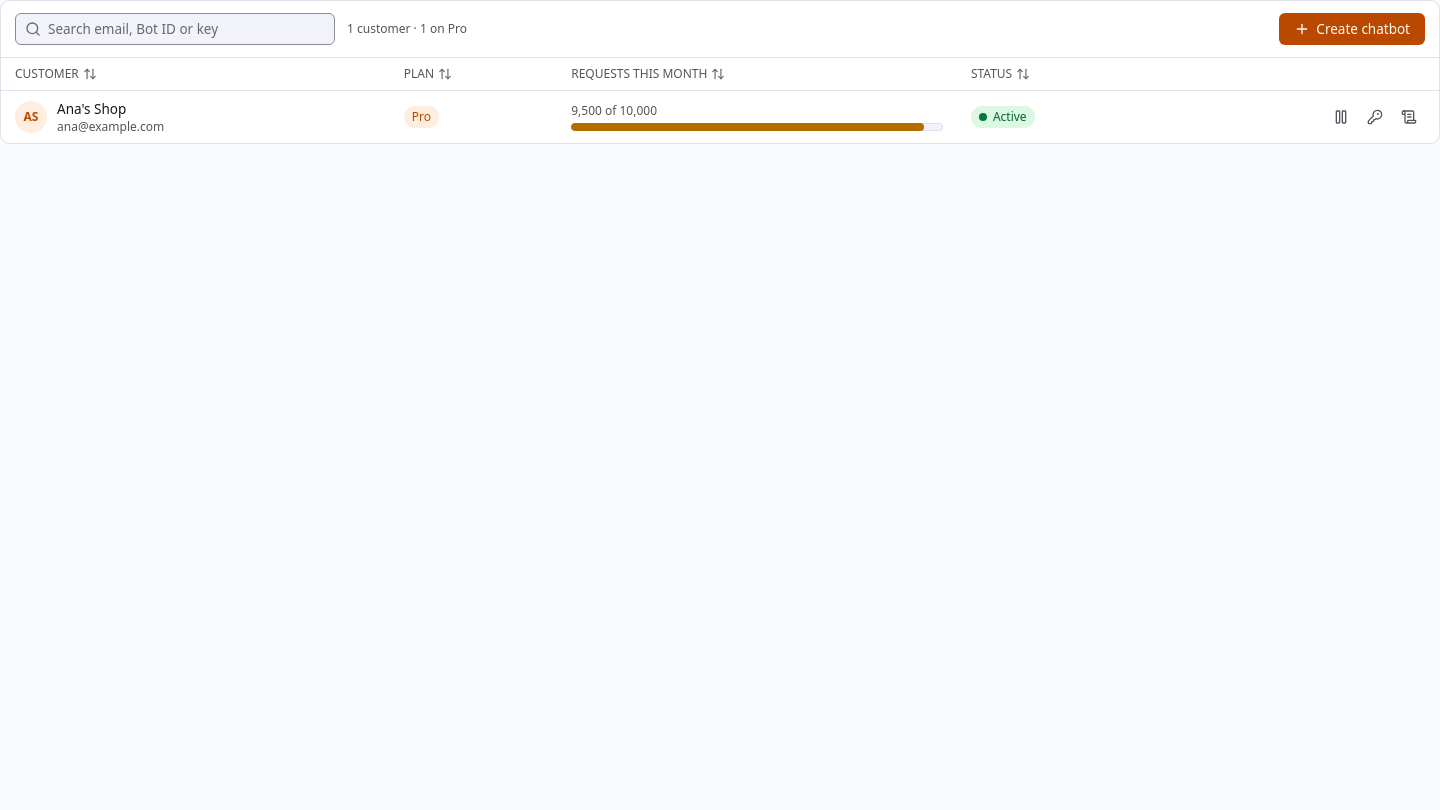
keeps the confirm dialog open with the error when the server refuses
Click the row "AS Ana's Shop ana@example.com Pro 9,500 of 10,000 Active" at point(31, 117), box x1=1 y1=90 x2=1439 y2=143
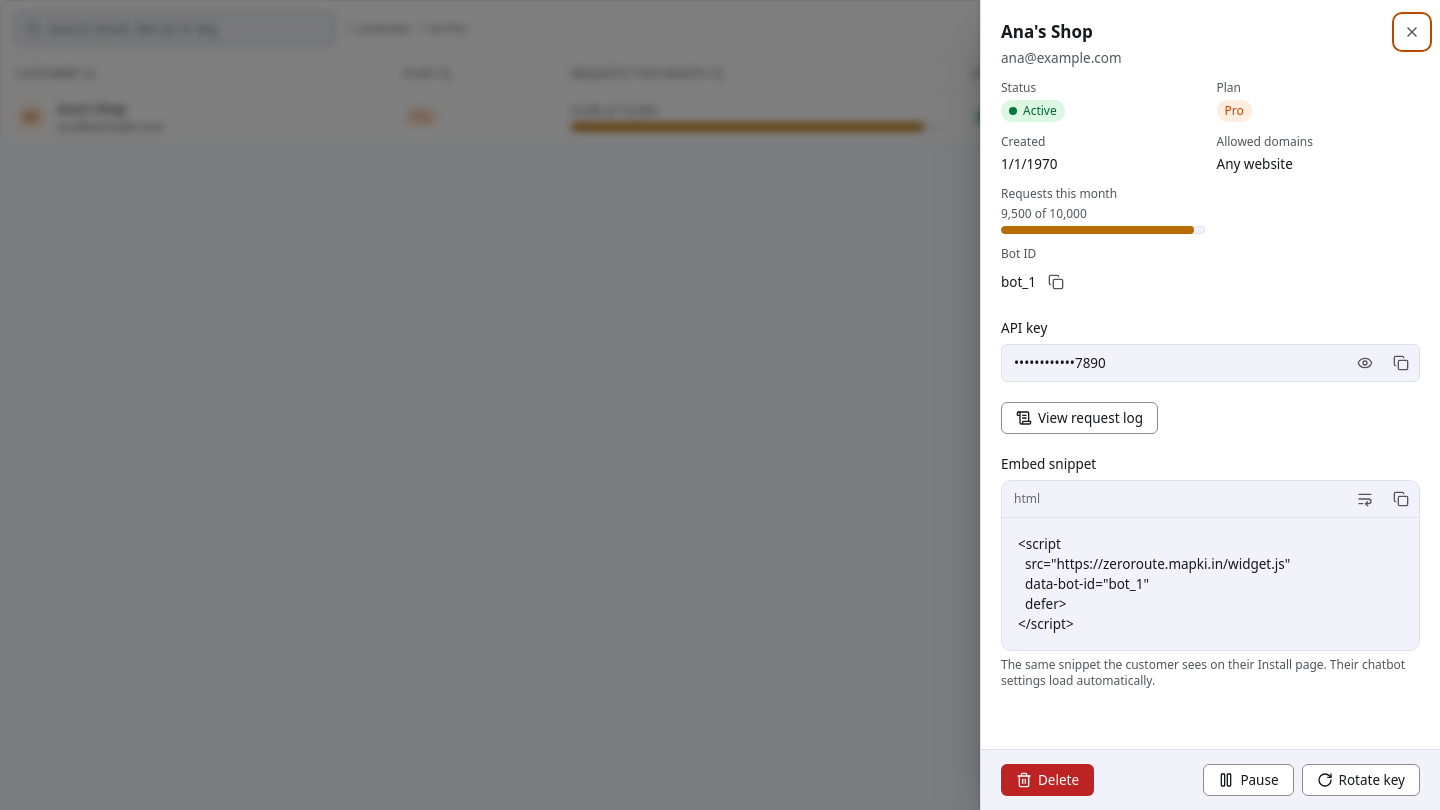
Click the button "Rotate key" at point(1361, 780), box x1=1302 y1=764 x2=1420 y2=796
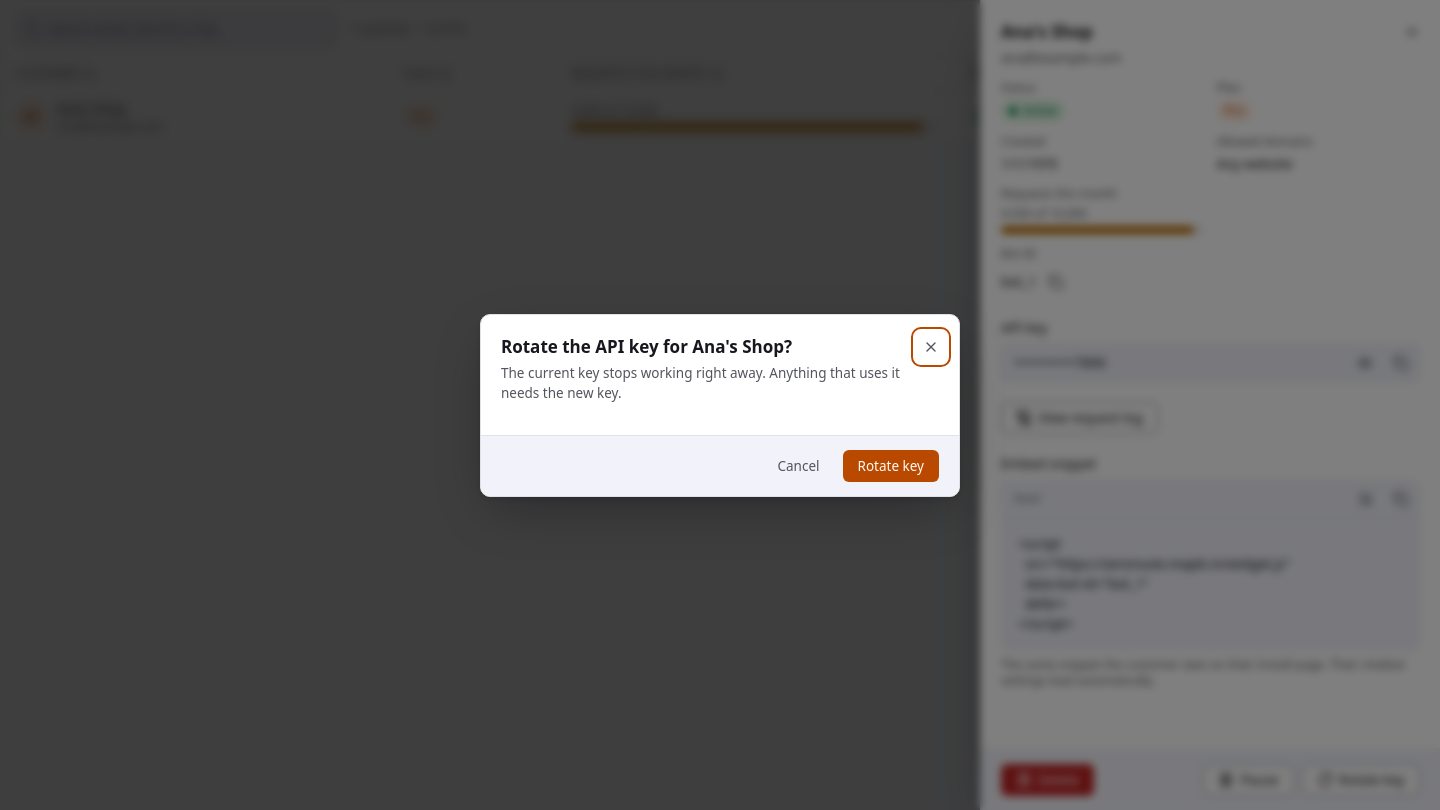
Click the button "Rotate key" at point(891, 466), box x1=842 y1=450 x2=939 y2=482
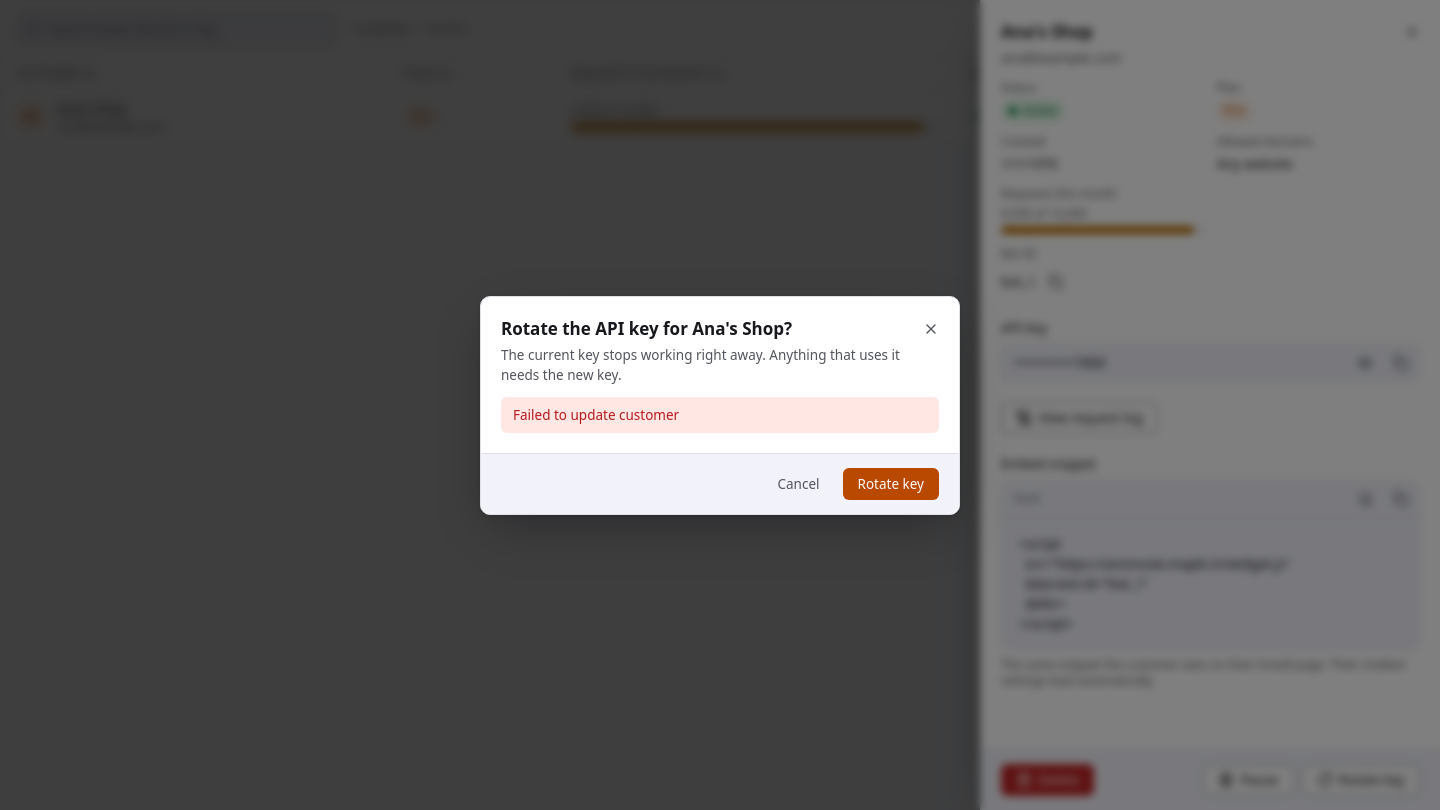
Expected: the text "Failed to update customer" is shown, x1=501 y1=396 x2=939 y2=432
